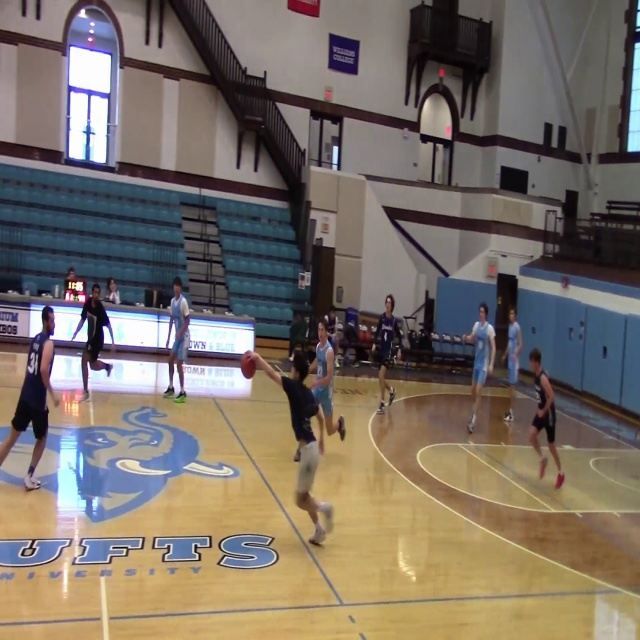Basketball: (240, 351, 256, 379)
